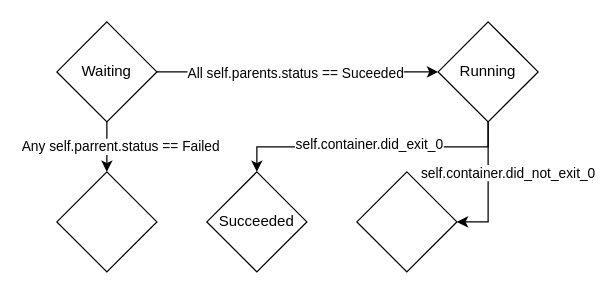
This 616x294 diagram has some shape labels left out. Here are the shapes that lost their labels. From the top down, the centre of each, then its label:
pixel 106 221: Cancelled
pixel 406 221: Failed
